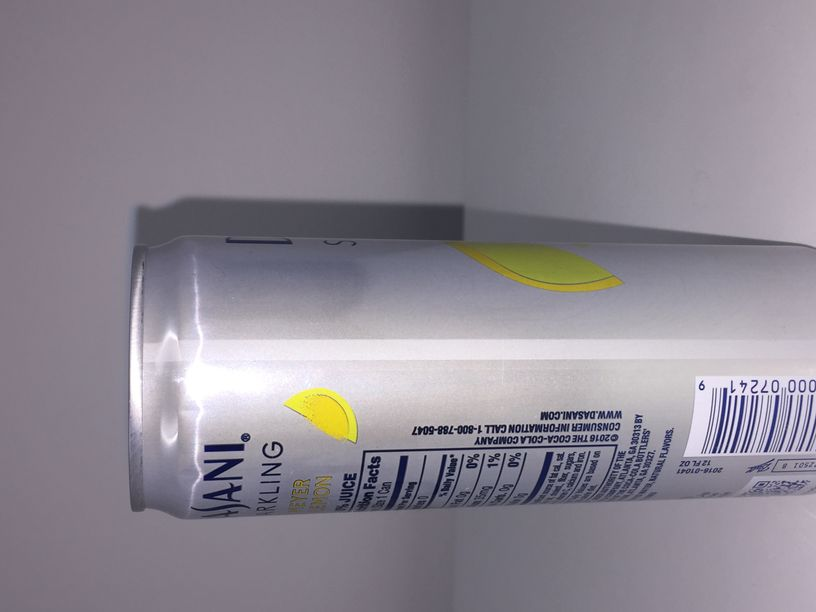lemon: (129, 233, 816, 523)
